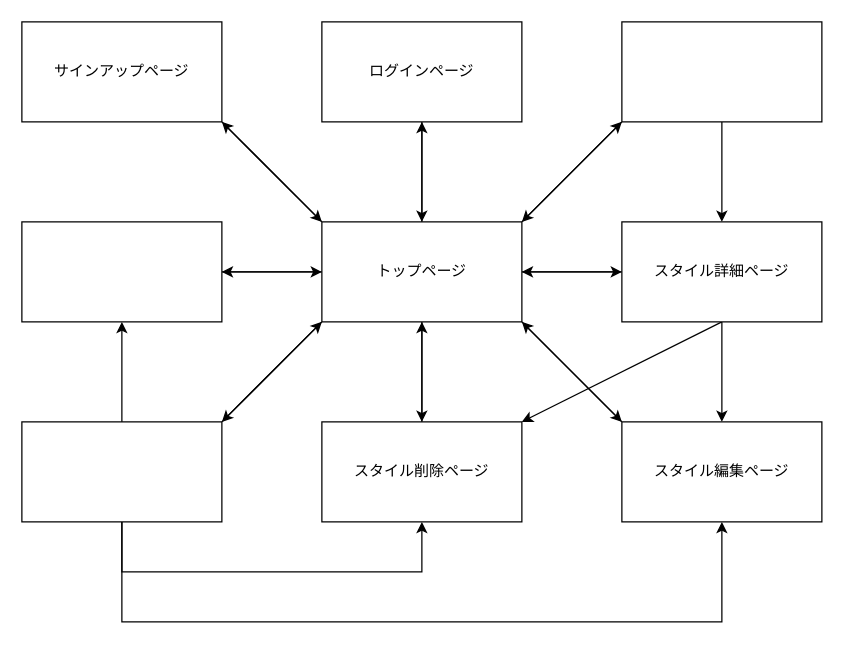
Some shapes in this 844 by 654 pixel diagram are drawn without their labels. The shapes that lost their labels are listed below. From the top down, each one's box as (x1, y1, x2, y2) in pixels, then its label:
(621, 21, 822, 122): ランダム出力結果ページ
(21, 221, 222, 322): スタイル登録ページ
(21, 421, 222, 522): ユーザー詳細ページ
